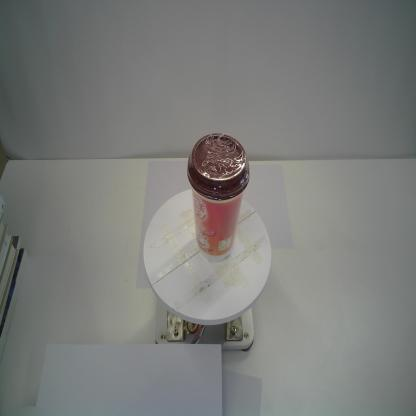Instant Drink: (186, 132, 250, 263)
